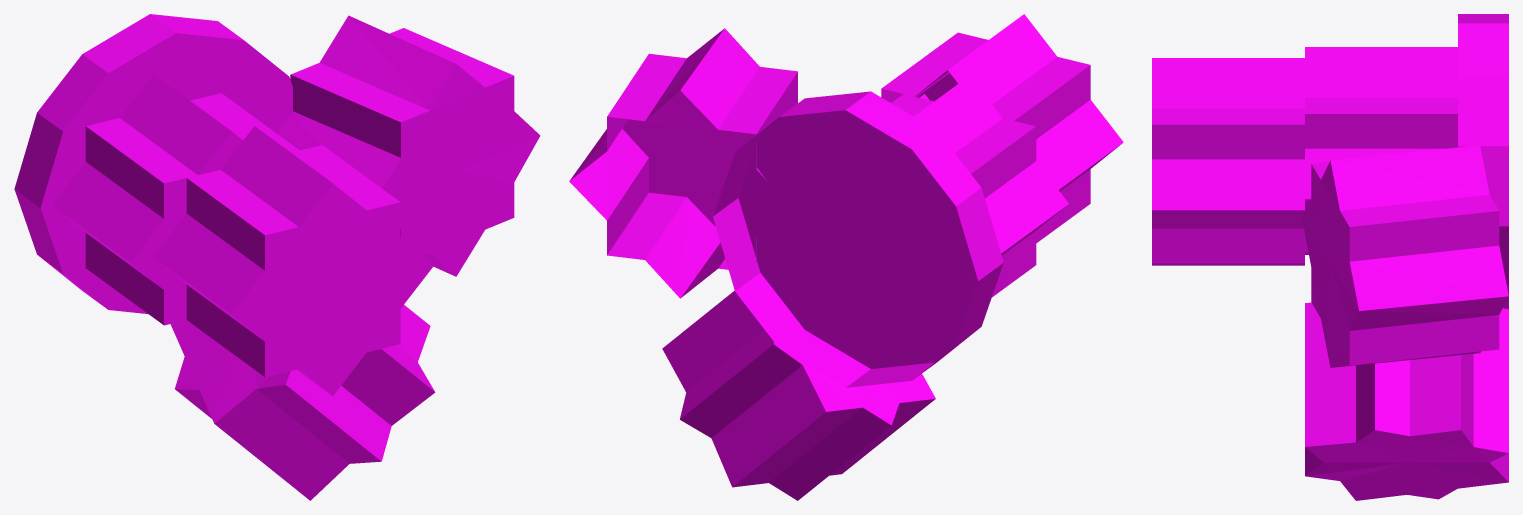
File: brokenpillar.obj
3 renders of one model, left to right at view 1: azimuth 30°, elevation 25°; view 2: azimuth 150°, elevation 25°; view 3: azimuth 270°, elevation 25°, orthographic. The views are drawn at different scales.
Parts seen in each view (by area): view 1: brokenpillar; view 2: brokenpillar; view 3: brokenpillar.
Boxes of the visible parts, left/top/right/bottom form: brokenpillar: left=14, top=14, right=540, bottom=500; brokenpillar: left=569, top=14, right=1123, bottom=500; brokenpillar: left=1152, top=14, right=1508, bottom=500.
Bounding box in the file's own units: 1.59 × 1.52 × 1.12.
